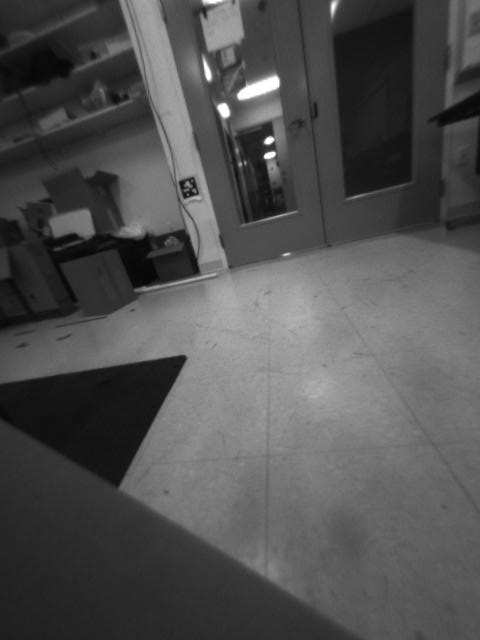door_handle: (281, 112, 308, 133)
